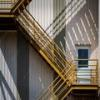stairs: (16, 12, 76, 83)
